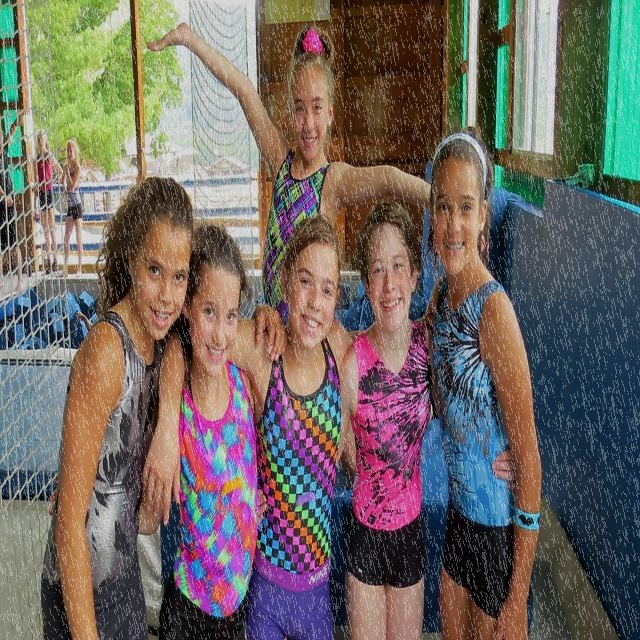pessoa: (144, 19, 435, 346), (142, 212, 356, 638), (337, 195, 520, 639), (40, 170, 194, 640), (422, 127, 545, 639), (160, 218, 262, 639), (24, 127, 66, 279), (0, 108, 26, 293), (58, 136, 84, 280)
